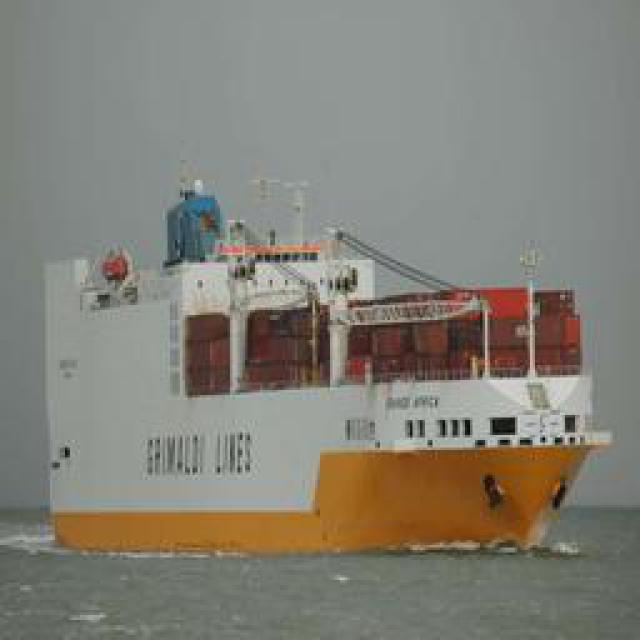Ship: (46, 197, 611, 555)
